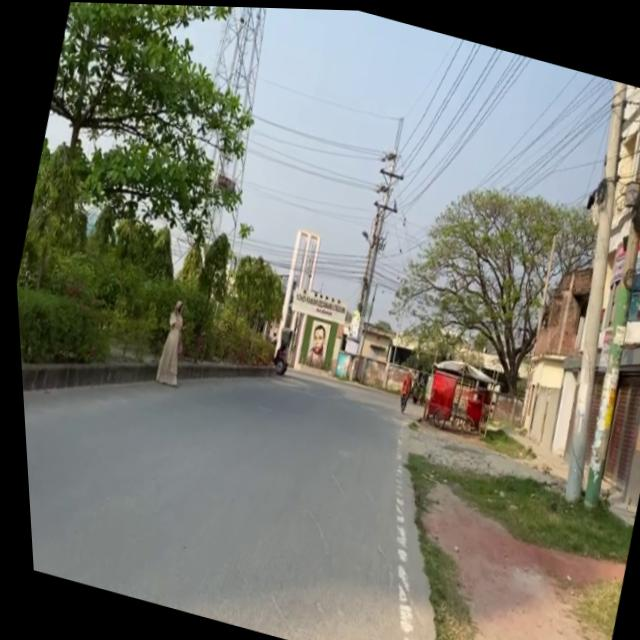Construction-barrier: (13, 289, 277, 465), (335, 410, 496, 640), (394, 416, 619, 514)
Fallen-tree: (264, 338, 288, 374), (402, 372, 421, 402), (391, 386, 406, 411)
Garbage: (411, 349, 500, 439)
Garbage-bin: (145, 295, 193, 387), (298, 319, 326, 367), (388, 365, 413, 412)
Light-pole: (506, 73, 640, 503)
